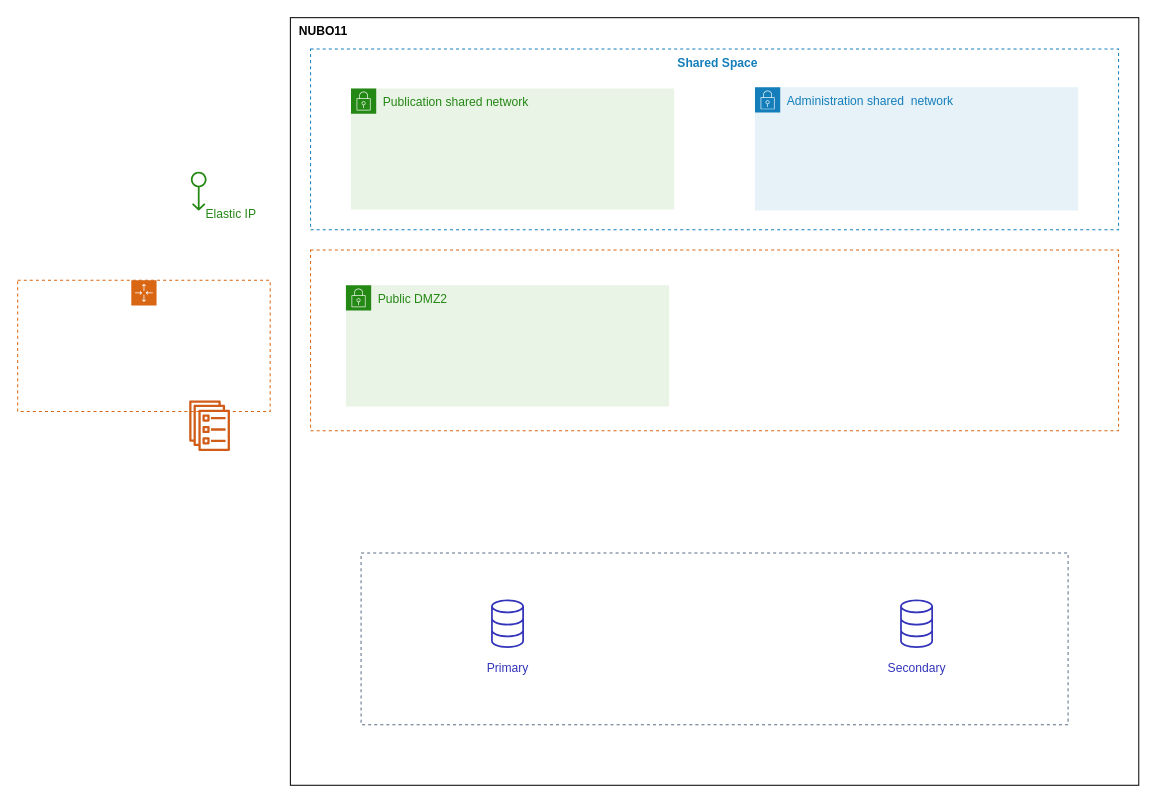
Some shapes in this 1156 by 803 pixel diagram are drawn without their labels. The shapes that lost their labels are listed below. From the top down, each one's box as (x1, y1, x2, y2) in pixels, then its label:
(17, 279, 270, 412): Auto Scaling group
(310, 249, 1119, 431): A Team member Space
(188, 400, 230, 450): Confluence Cluster 1
(360, 552, 1068, 725): Databases
